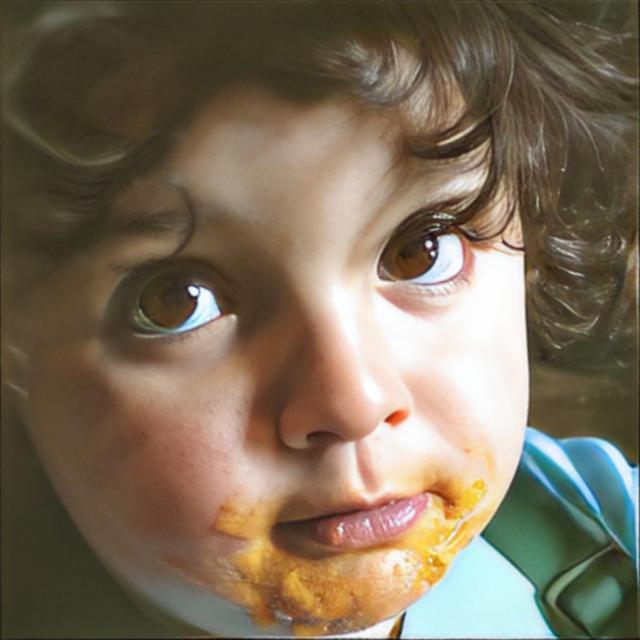surprise: (14, 1, 532, 640)
